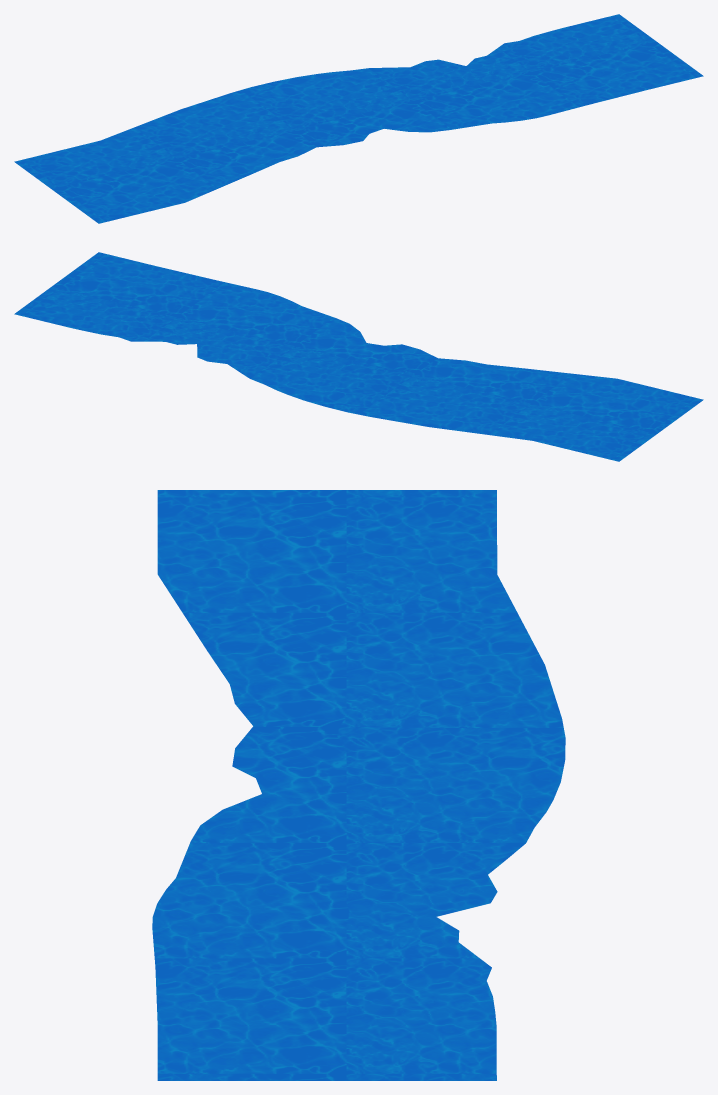
Rendered from River5.glb.
3 views of the same model, one above another, from view 1: azimuth 30°, elevation 25°; view 2: azimuth 150°, elevation 25°; view 3: azimuth 270°, elevation 25° (orthographic). The views are drawn at different scales.
Visible parts, largest first — view 1: River5; view 2: River5; view 3: River5.
Part boxes in pixels (bbox=[...]): River5: bbox=[14, 14, 703, 223]; River5: bbox=[14, 252, 703, 461]; River5: bbox=[152, 490, 565, 1080].
Size of the model in its own units: 5.04 by 0 by 1.49.
Materials: 1 (1 with a texture image).
